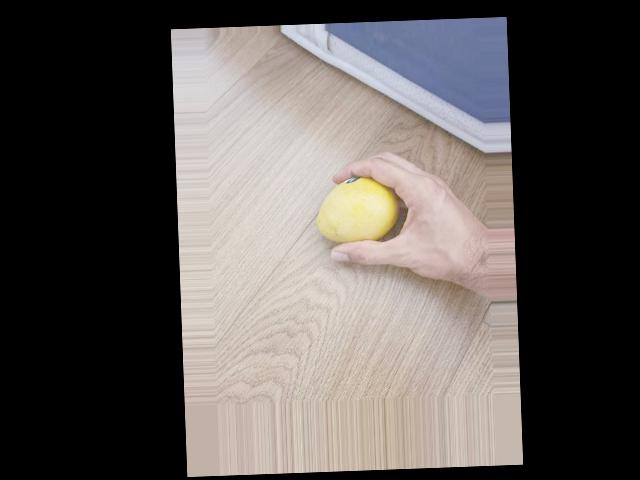lemon: (313, 179, 399, 246)
